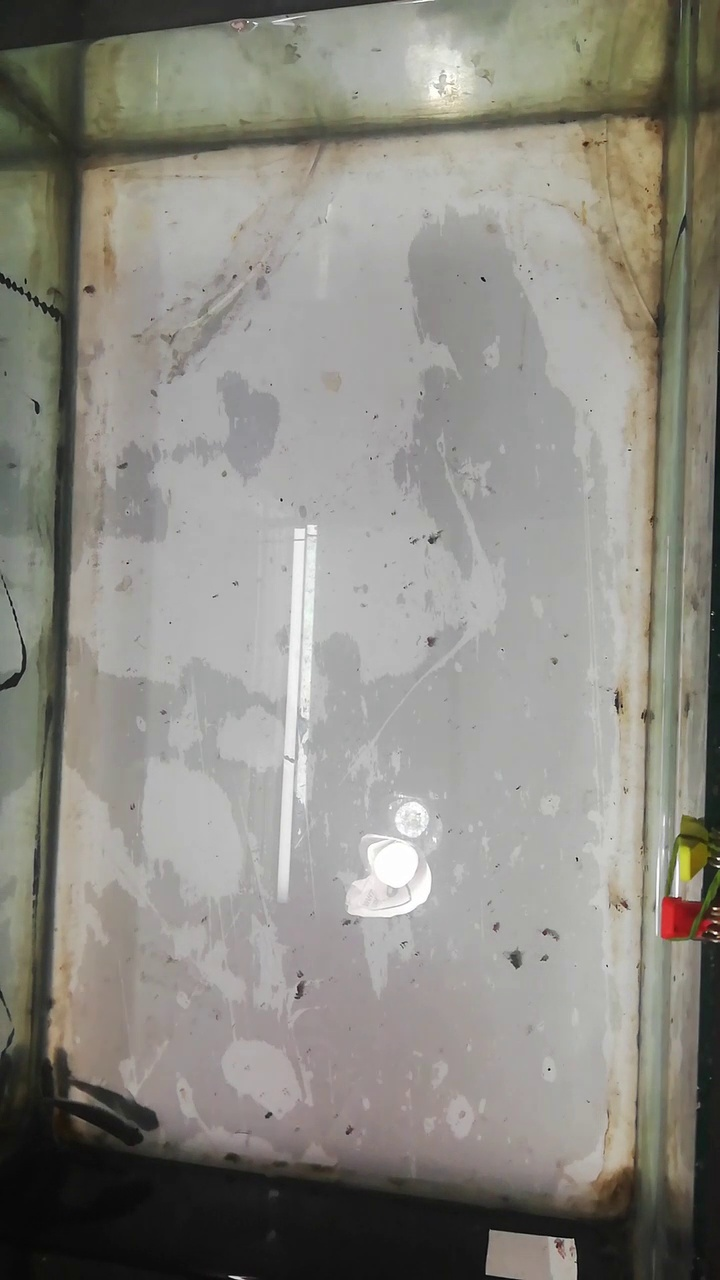fish1: (63, 1098, 145, 1148)
fish2: (39, 1045, 61, 1125)
